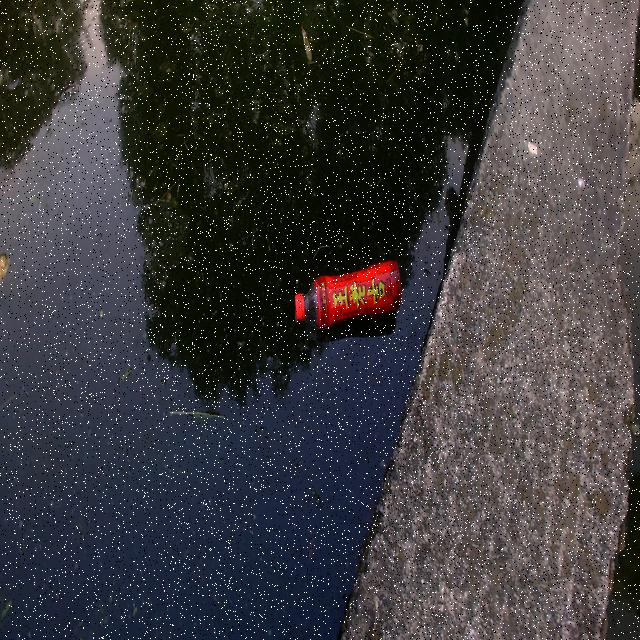Bottle: (291, 255, 402, 332)
